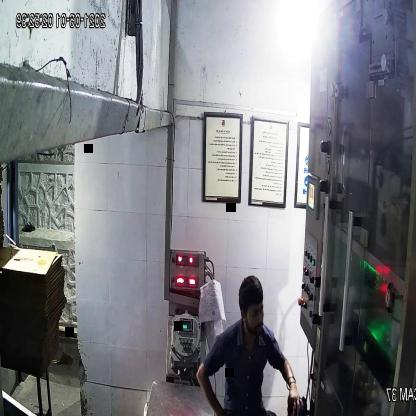no_goggles: (240, 297, 268, 322)
